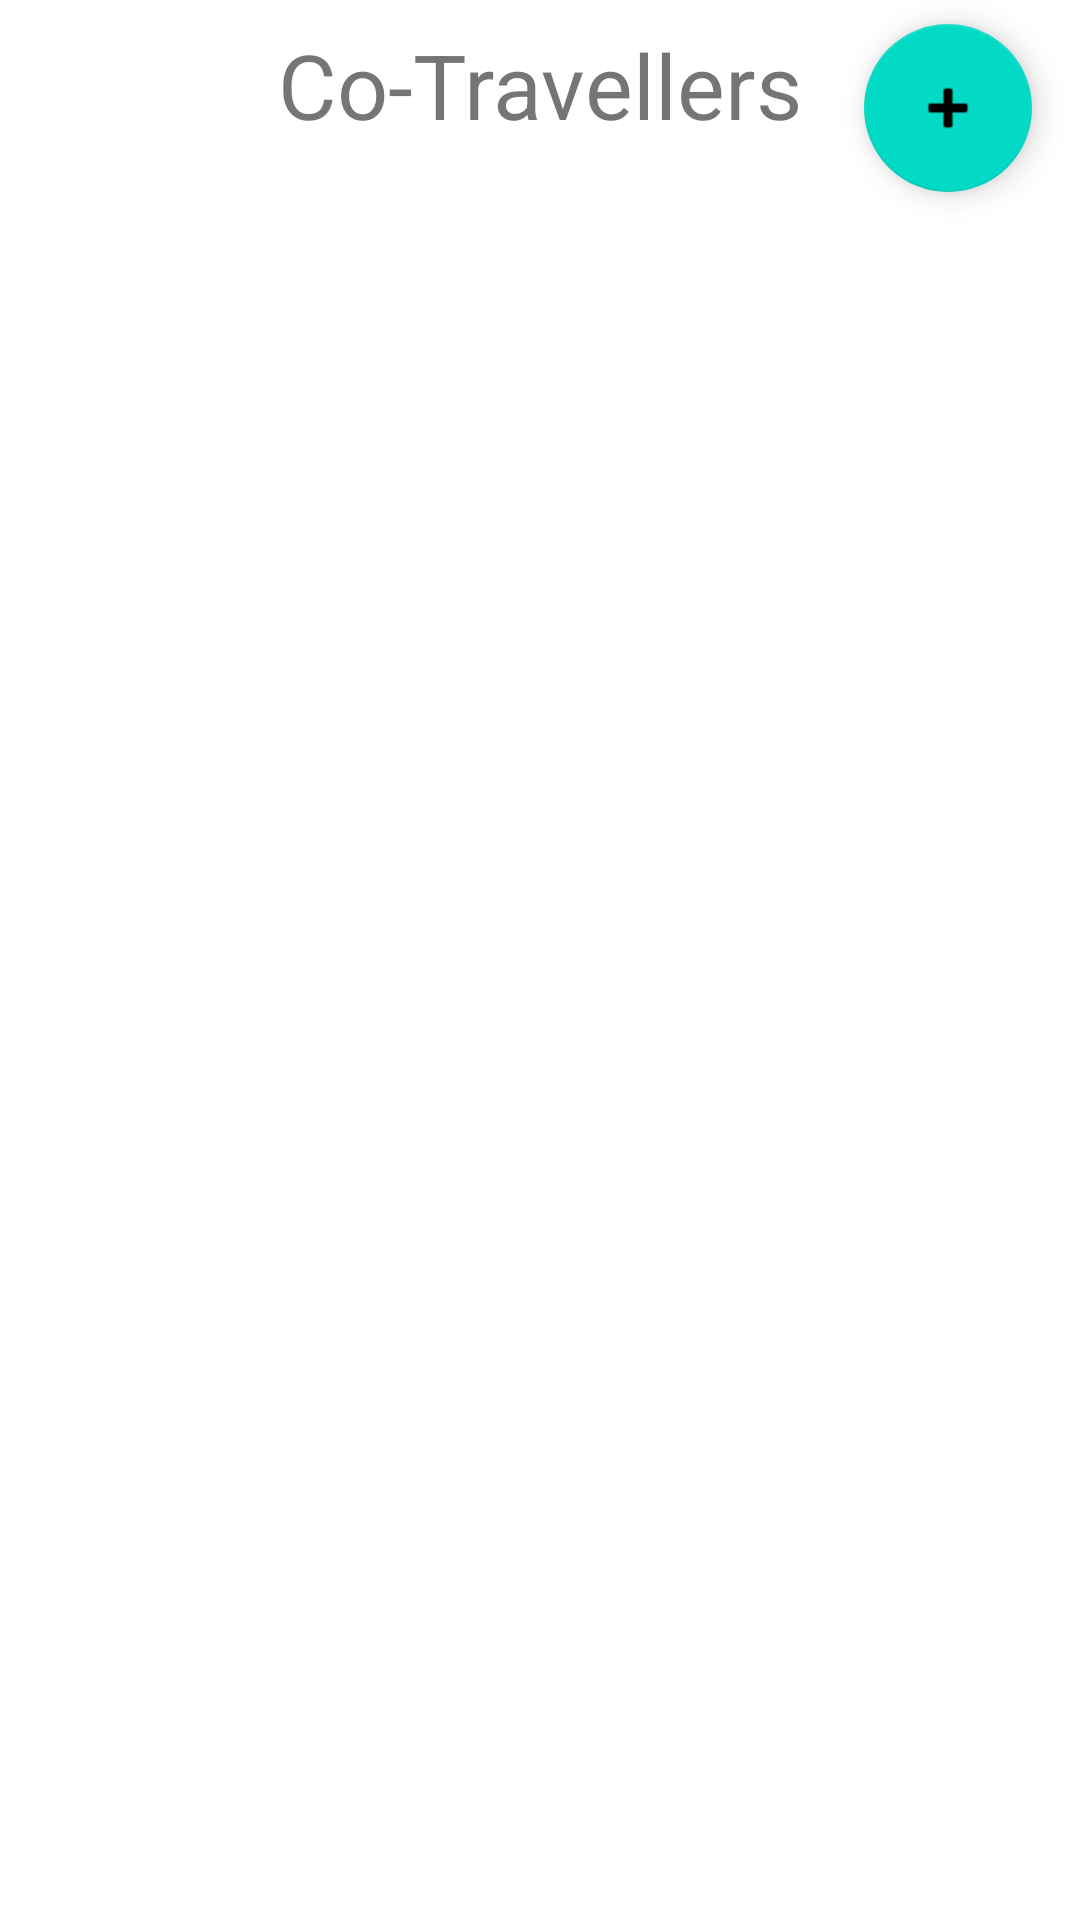

Screen size 1080*1920. Icon name, then its center in pixels as (x,y):
add: (948,108)
